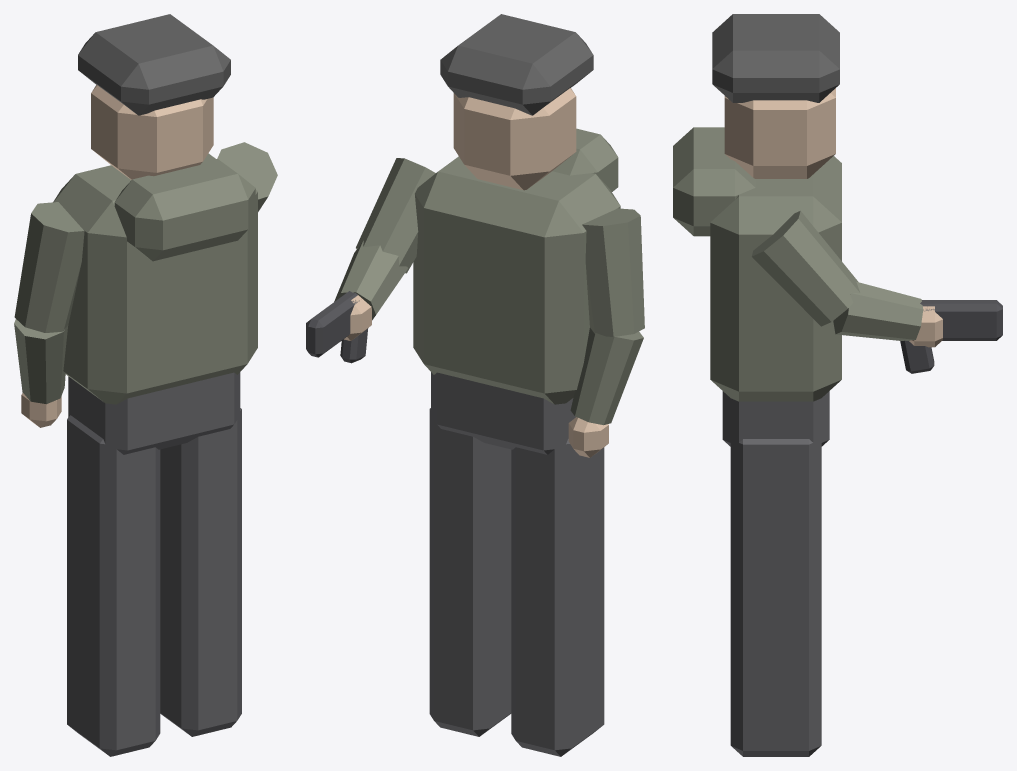
File: SM_Holder.glb
The picture shows the model from 3 angles, left to right: view 1: azimuth 30°, elevation 25°; view 2: azimuth 150°, elevation 25°; view 3: azimuth 270°, elevation 25°; orthographic projection.
Parts seen in each view (by area): view 1: SM_Holder; view 2: SM_Holder; view 3: SM_Holder.
Part boxes in pixels (box(x1,y1,x2,y2)): SM_Holder: box(14, 14, 277, 756); SM_Holder: box(306, 14, 644, 756); SM_Holder: box(673, 14, 1002, 756).
Size of the model in its own units: 0.7201 by 1.86 by 0.8.
